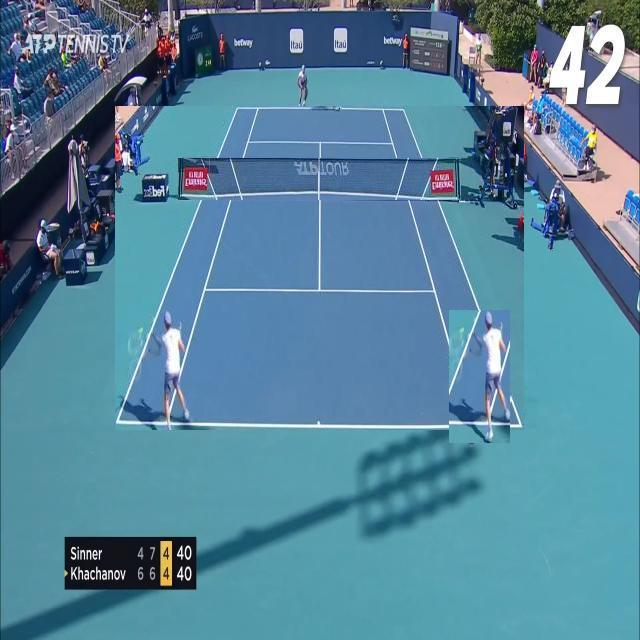court: (115, 106, 524, 430)
net: (178, 158, 461, 200)
player: (449, 310, 512, 443)
